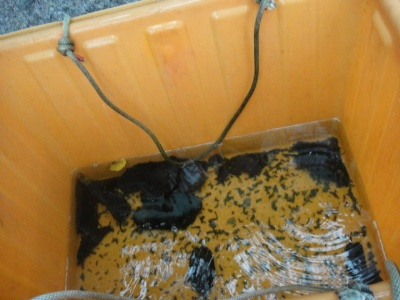box: (1, 2, 398, 299)
